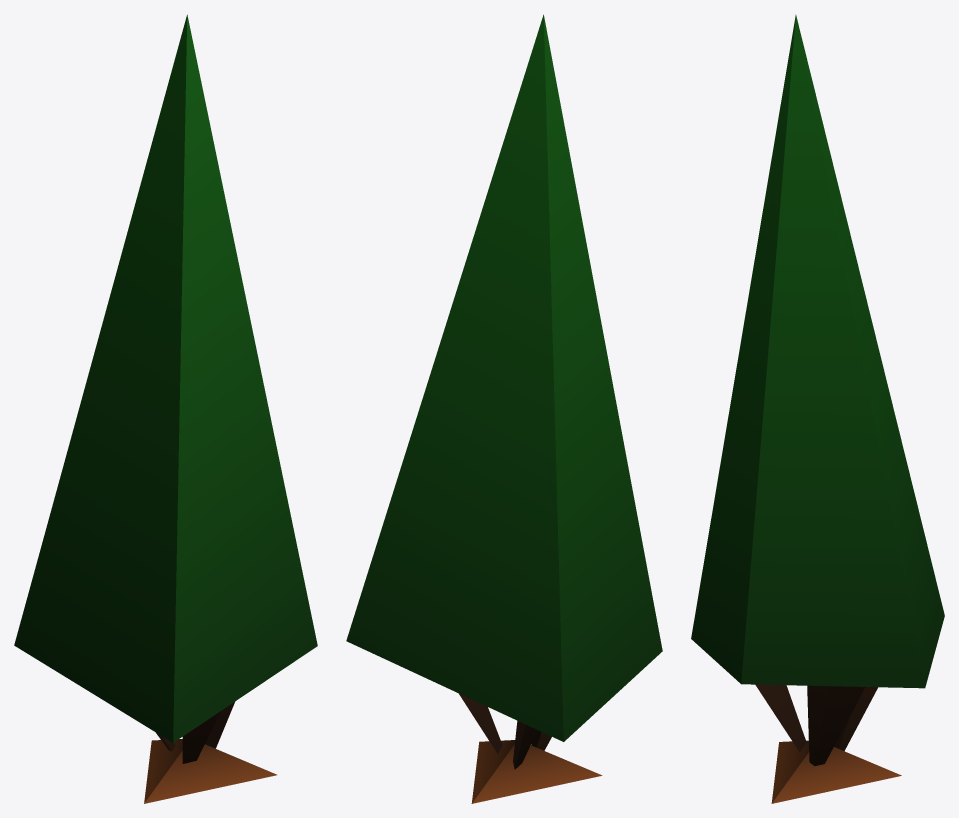
Rendered from c_hedge_vertical_triangle_aa.fbx.
The picture shows the model from 3 angles, left to right: view 1: azimuth 30°, elevation 25°; view 2: azimuth 150°, elevation 25°; view 3: azimuth 270°, elevation 25°; orthographic projection. The views are drawn at different scales.
Parts seen in each view (by area): view 1: c_hedge_vertical_triangle_aa; view 2: c_hedge_vertical_triangle_aa; view 3: c_hedge_vertical_triangle_aa.
Part boxes in pixels (x1,y1,x2,y2): c_hedge_vertical_triangle_aa: (14, 14, 317, 803); c_hedge_vertical_triangle_aa: (346, 14, 662, 803); c_hedge_vertical_triangle_aa: (691, 14, 944, 803).
Size of the model in its own units: 0.9233 by 2.99 by 0.8955.
